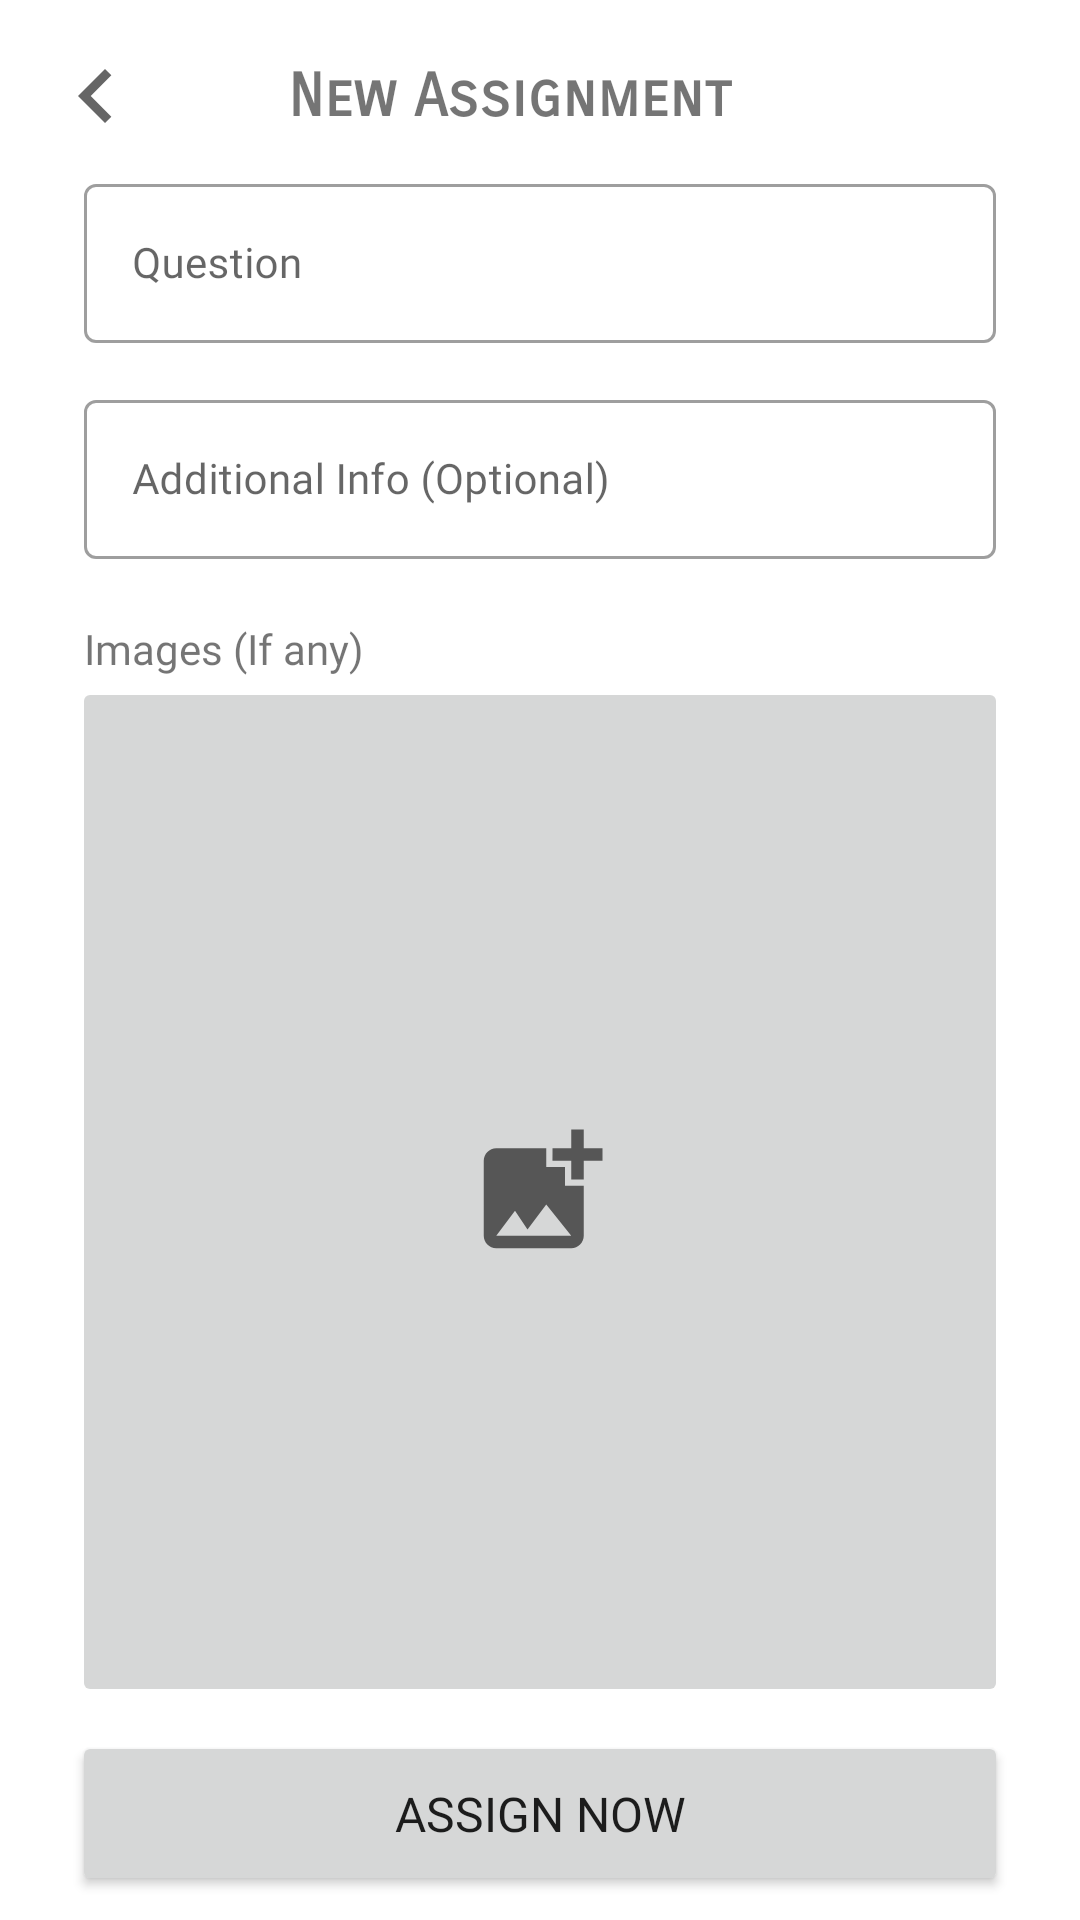

Point at icon controls on the screen. Image size 1080px×1920px, points as point (x, y).
navigate back: point (94, 96)
